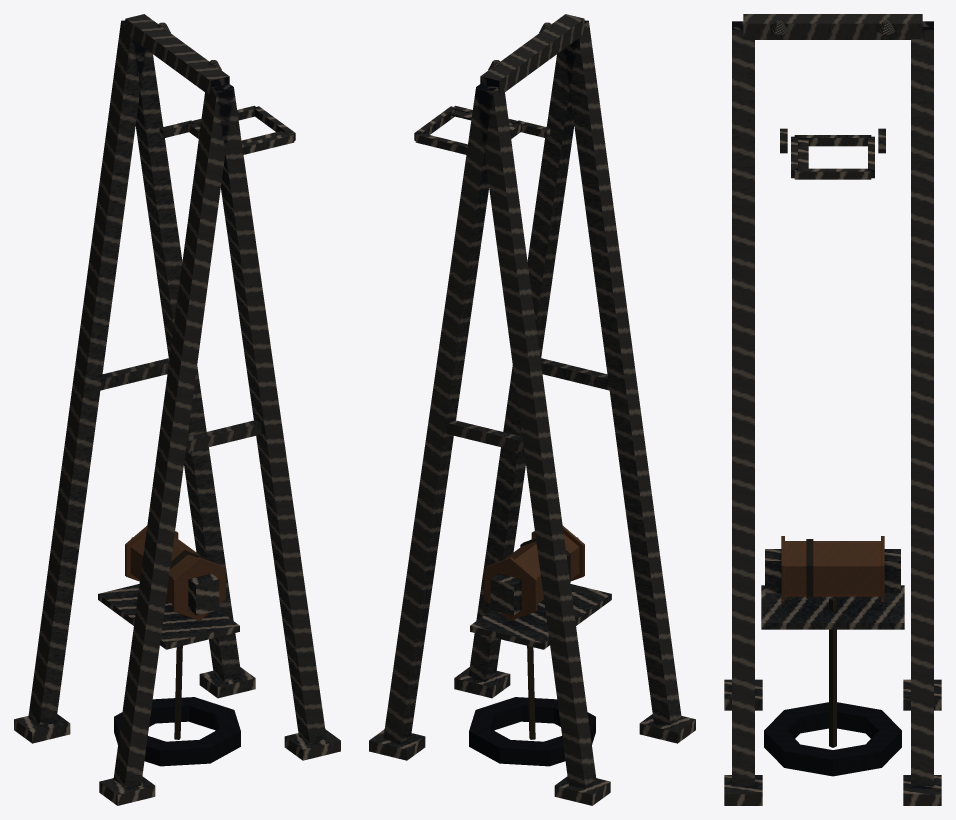
The model's file is derrick_lod2.glb.
3 views of the same model, side by side, from view 1: azimuth 30°, elevation 25°; view 2: azimuth 150°, elevation 25°; view 3: azimuth 270°, elevation 25° (orthographic). The views are drawn at different scales.
Parts seen in each view (by area): view 1: LOD2_derrick, LOD2_drum, LOD2_cable; view 2: LOD2_derrick, LOD2_drum, LOD2_cable; view 3: LOD2_derrick, LOD2_drum, LOD2_cable.
Part boxes in pixels (x1,y1,x2,y2): LOD2_derrick: [14, 14, 340, 805]; LOD2_drum: [125, 526, 225, 620]; LOD2_cable: [166, 550, 211, 739]; LOD2_derrick: [369, 14, 695, 805]; LOD2_drum: [484, 526, 584, 620]; LOD2_cable: [520, 538, 570, 739]; LOD2_derrick: [724, 14, 941, 805]; LOD2_drum: [781, 536, 884, 601]; LOD2_cable: [806, 539, 836, 747].
Bounding box in the file's own units: 2.12 × 6.31 × 1.7.
Materials: 2 (2 with a texture image).
